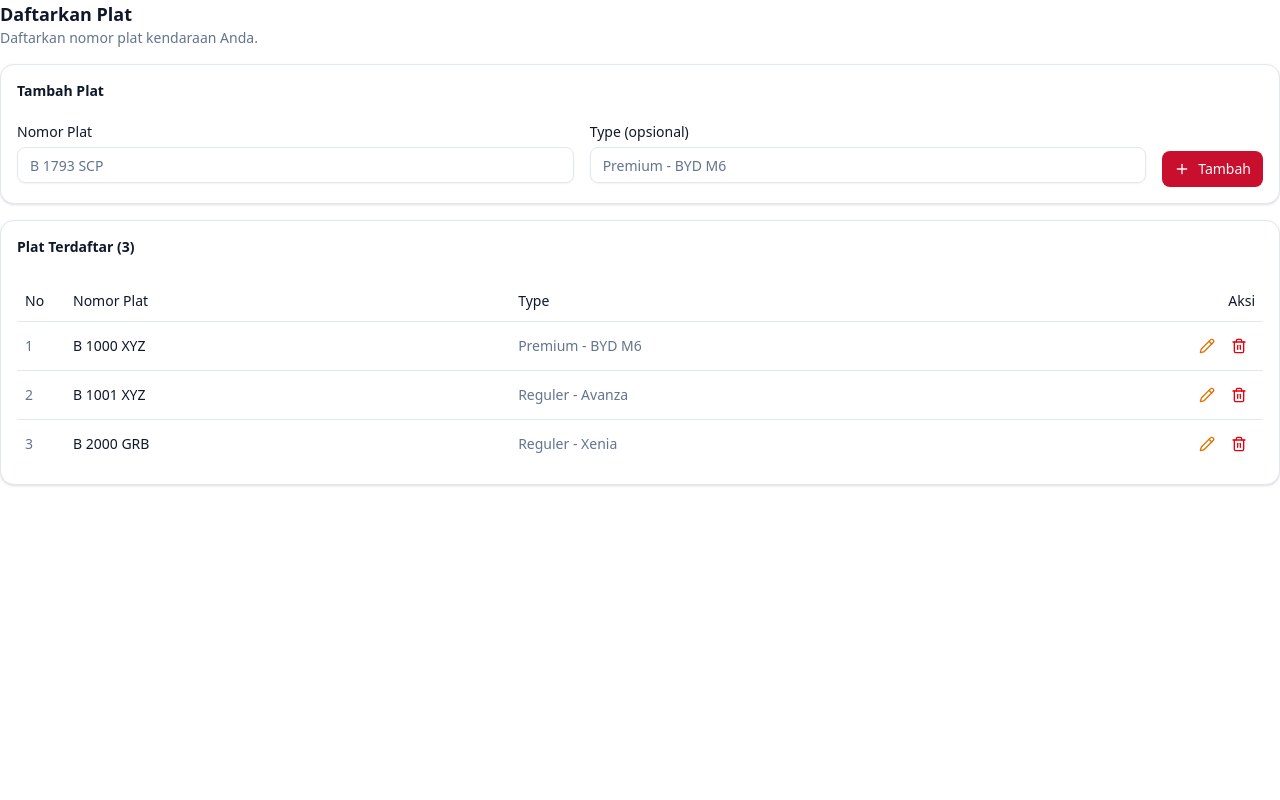
Test: Daftarkan Plat — the partner side of the shared screen › edits a plate through the dialog
Expected: the text "B 1000 XYZ" is shown, [65,321,510,370]
Click the button named "Edit B 1000 XYZ": (1207, 346) [1191,330,1223,362]
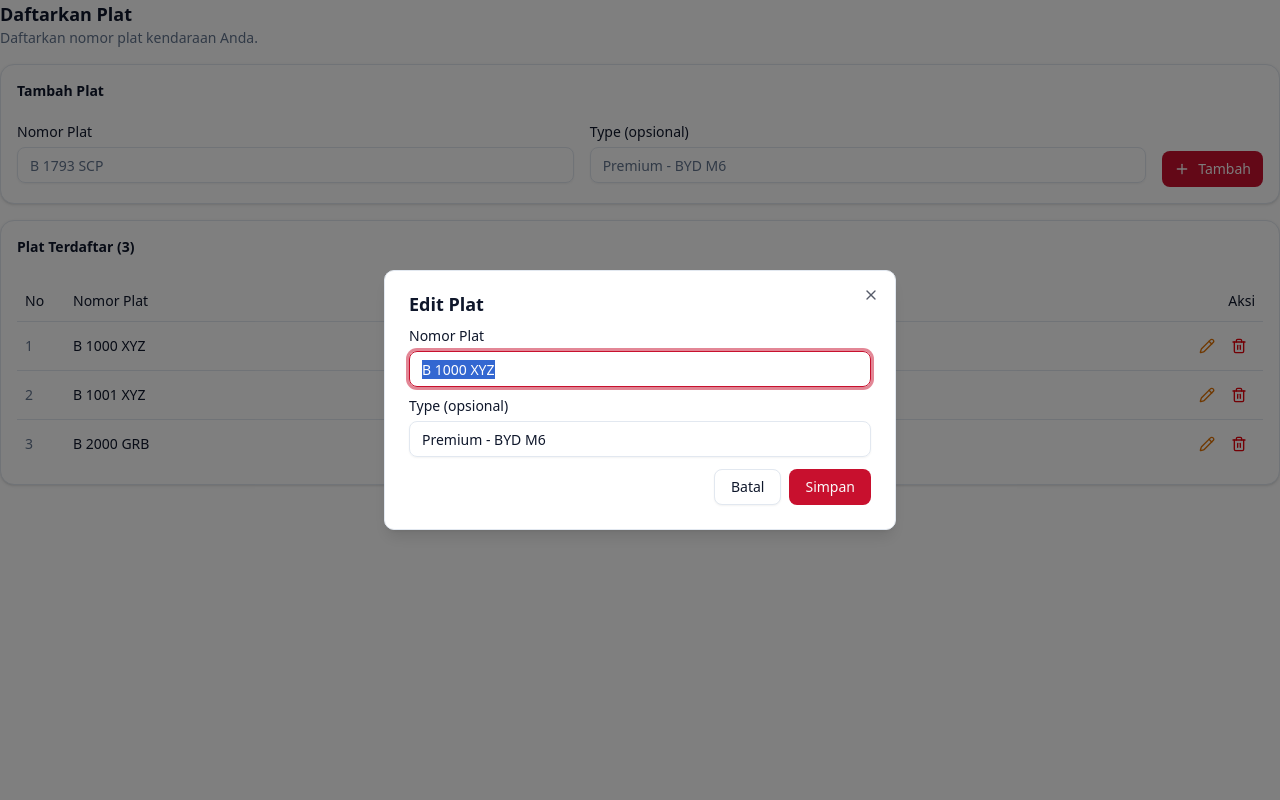
In the field labelled "Type (opsional)": (640, 439) [409,421,871,457], type "Reguler - Avanza"
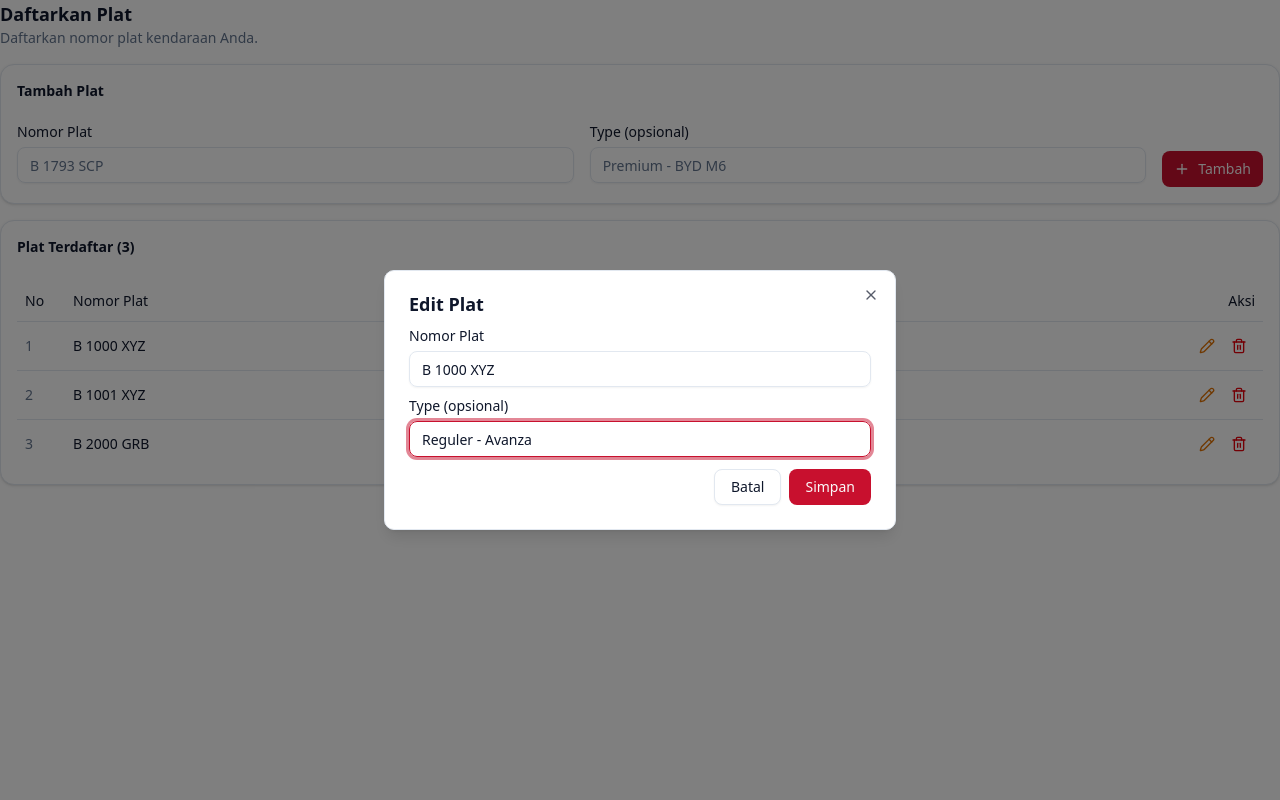
Click the button "Simpan": (830, 487) [790,469,871,505]
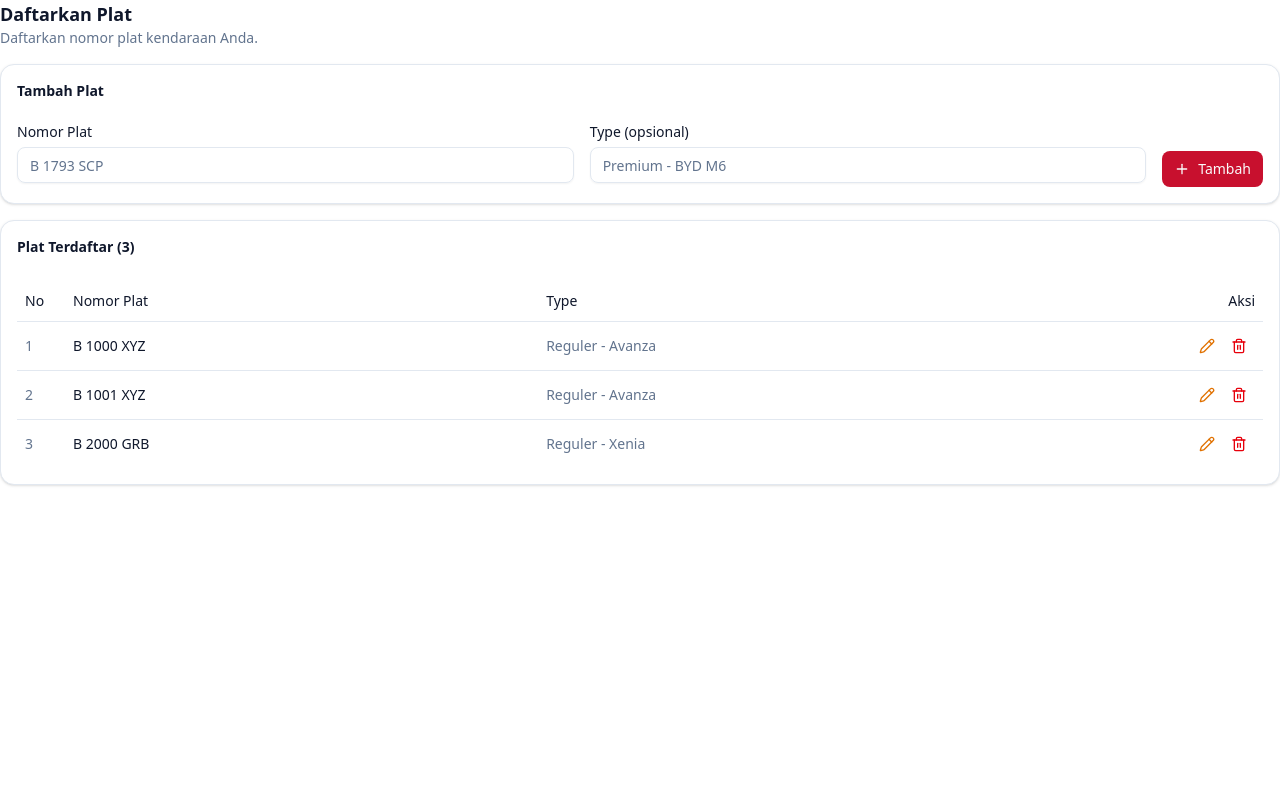
Now the dialog is gone
